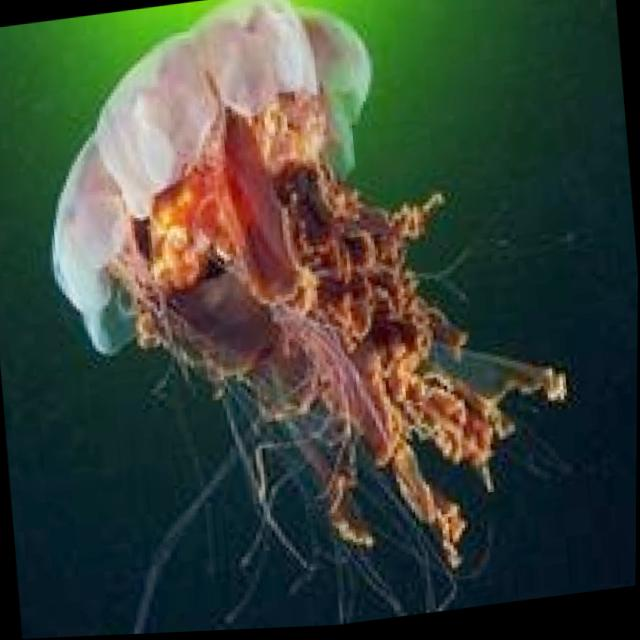Box-jellyfish: (26, 0, 593, 639)
